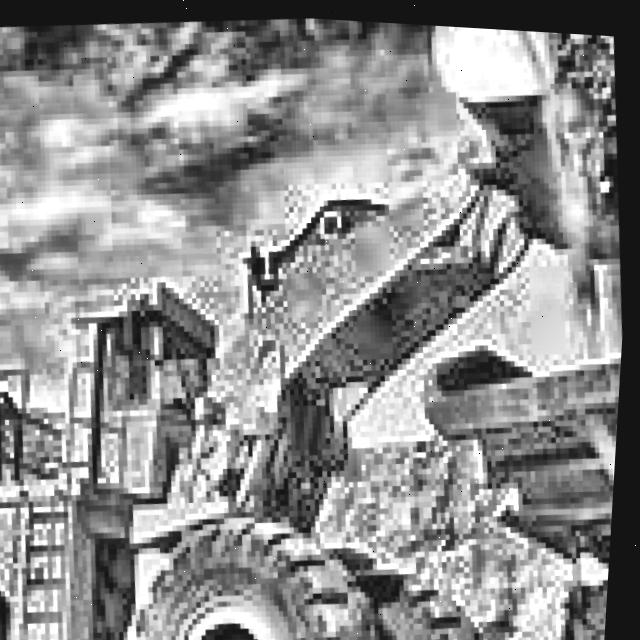buldozerpayloadergrader: (0, 0, 640, 640)
dump_truck: (400, 229, 630, 640)
